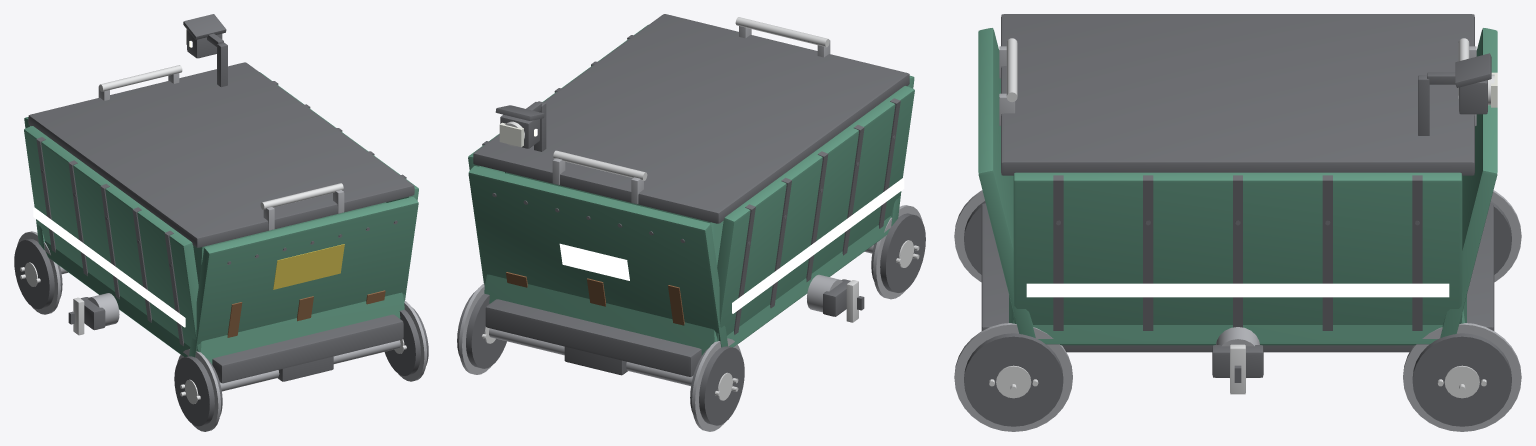
Rendered from PR_minecart.fbx.
The picture shows the model from 3 angles, left to right: view 1: azimuth 30°, elevation 25°; view 2: azimuth 150°, elevation 25°; view 3: azimuth 270°, elevation 25°; orthographic projection. The views are drawn at different scales.
Visible parts, largest first — view 1: PR_minecart; view 2: PR_minecart; view 3: PR_minecart.
Part boxes in pixels (box(x1,y1,x2,y2)): PR_minecart: box(14, 14, 428, 431); PR_minecart: box(457, 14, 925, 431); PR_minecart: box(954, 14, 1521, 431).
Bounding box in the file's own units: 1.53 × 1.18 × 1.77.
